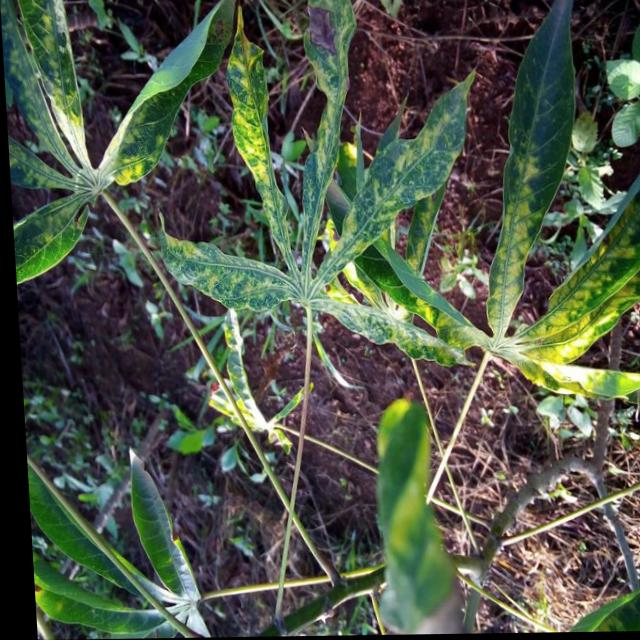Mosaico: (393, 75, 637, 413), (219, 89, 468, 382), (0, 0, 190, 208)
